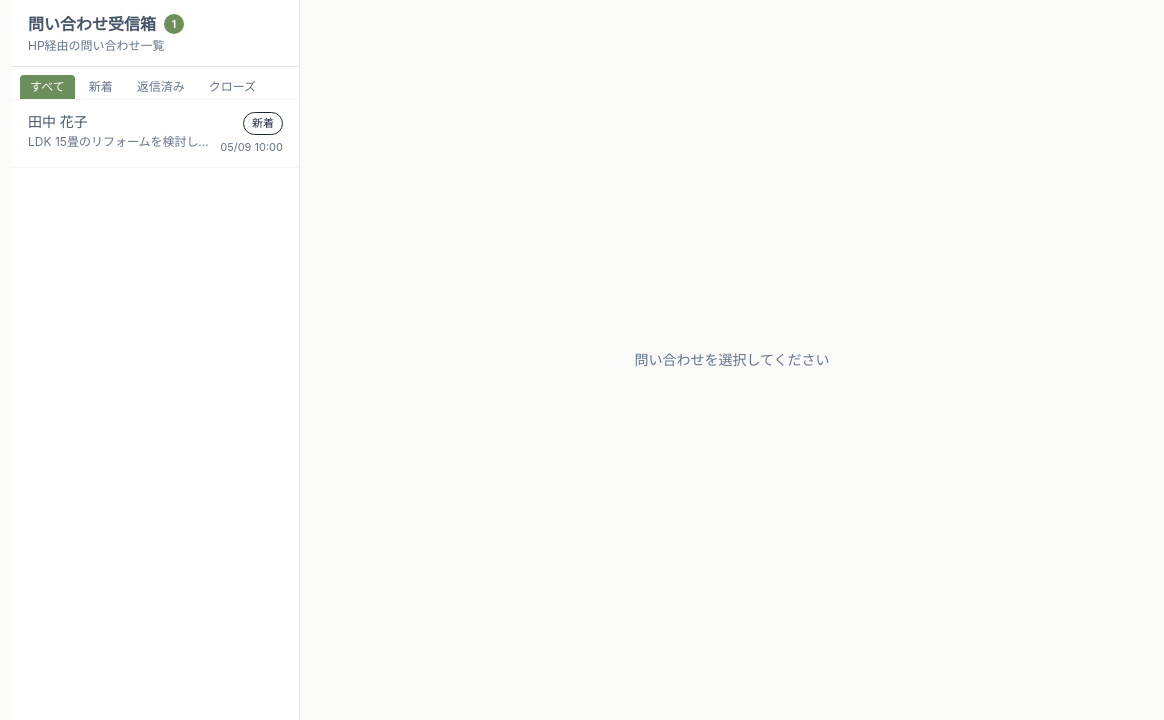
Test: InquiryInboxPage — 詳細表示 › 詳細に「返信済みにマーク」ボタンが表示される
The image size is (1164, 720).
Click the text "田中 花子": [58, 122] box [28,113,88,130]
(page scrolled)
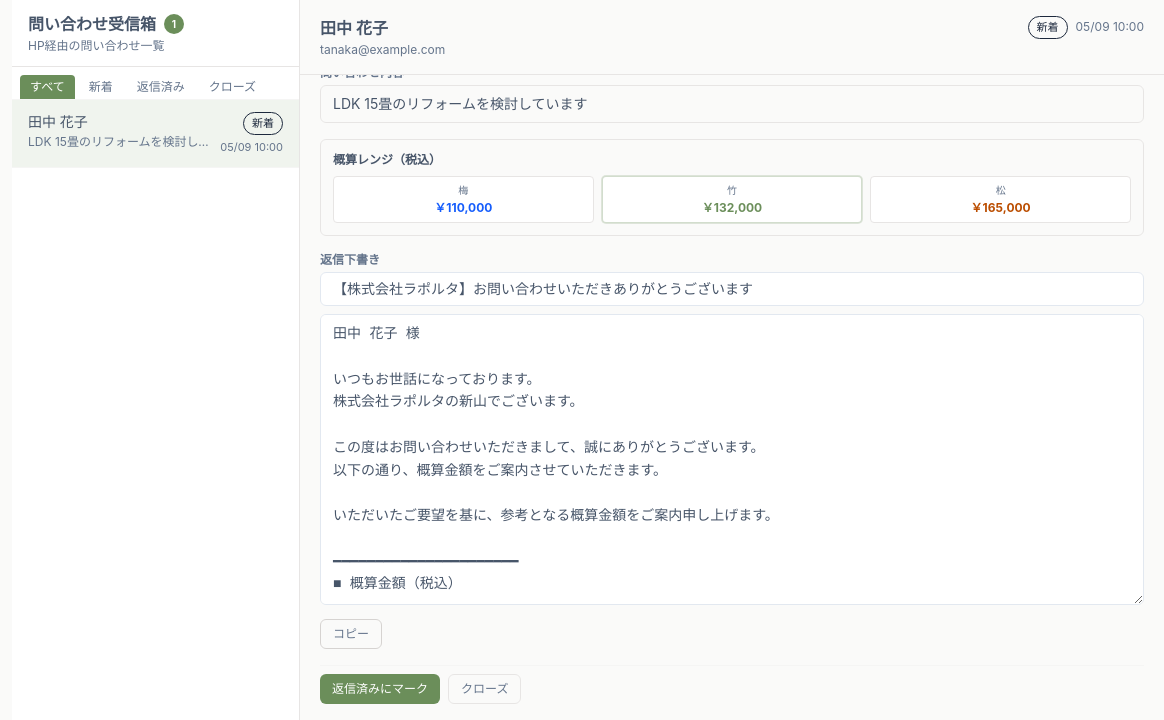
Now the button "返信済みにマーク" is shown, box [320,674,440,704]
